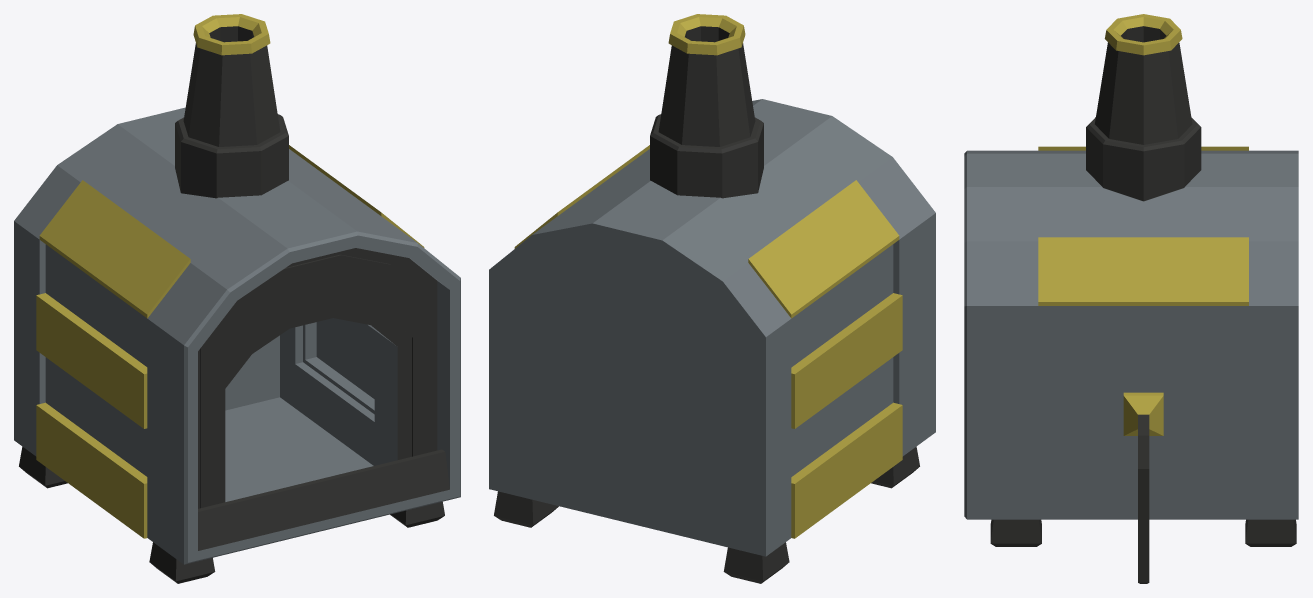
The model's file is FornalhaLowPoly.fbx.
The picture shows the model from 3 angles, left to right: view 1: azimuth 30°, elevation 25°; view 2: azimuth 150°, elevation 25°; view 3: azimuth 270°, elevation 25°; orthographic projection. The views are drawn at different scales.
Parts seen in each view (by area): view 1: Cube; view 2: Cube; view 3: Cube.
Boxes of the visible parts, <box> form: Cube: <box>14,14,460,583</box>; Cube: <box>489,14,935,583</box>; Cube: <box>964,14,1298,583</box>.
Size of the model in its own units: 975 by 1231 by 819.
